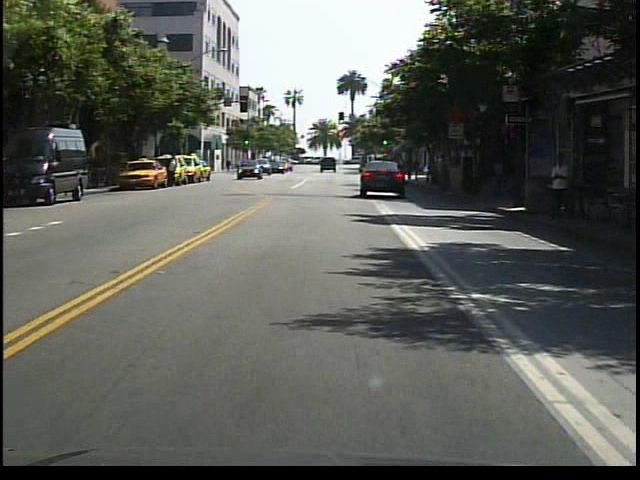person: (543, 148, 578, 226), (165, 153, 181, 190)
